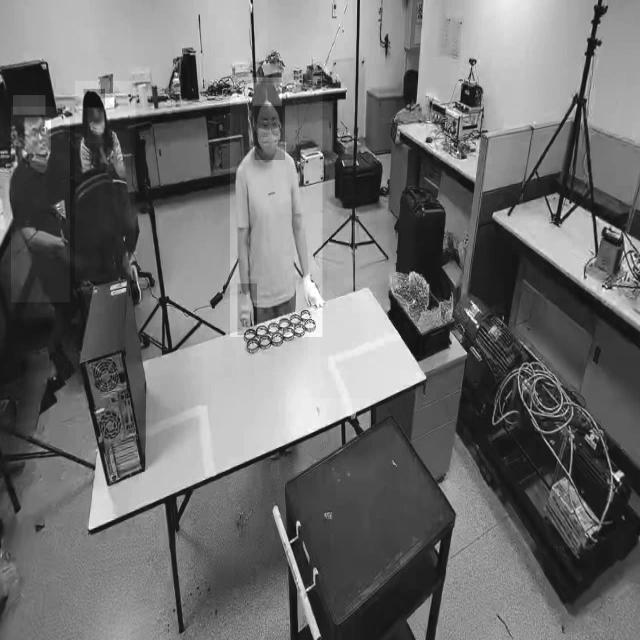face_mask: (255, 104, 285, 160), (88, 106, 104, 143)
face_nomask: (24, 117, 51, 155)
hand_glove: (298, 270, 326, 316), (237, 284, 257, 336)
hand_noglove: (106, 148, 125, 172)
head_nohelmet: (252, 77, 282, 107), (12, 95, 46, 116), (83, 89, 105, 108)
person: (230, 82, 322, 338), (74, 81, 136, 283), (10, 107, 70, 303)
